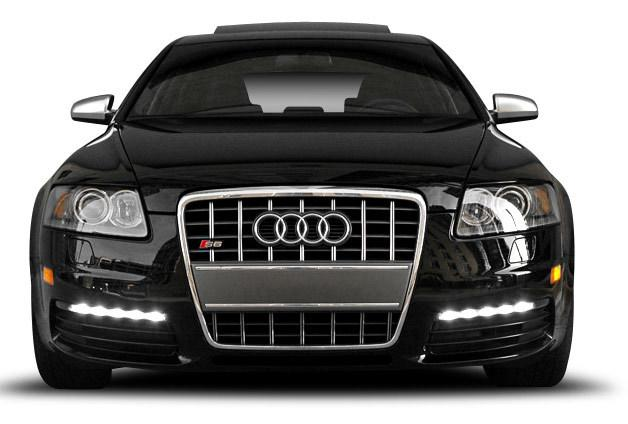car: (23, 18, 581, 397)
